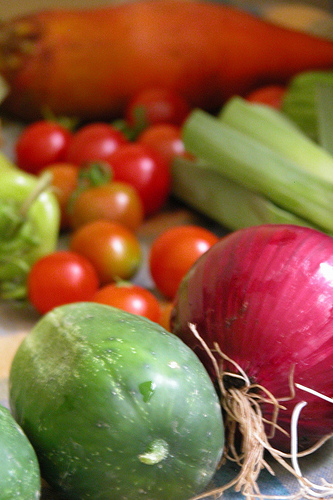cucumber: (8, 296, 221, 497)
